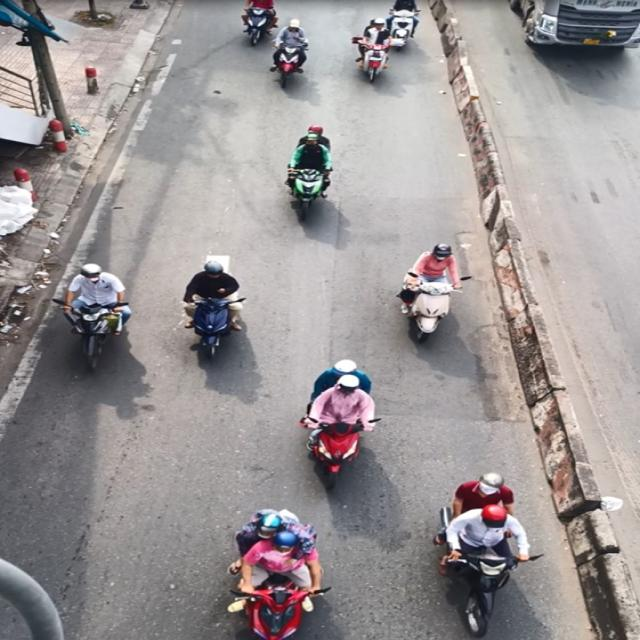motor: (202, 495, 338, 640), (434, 481, 554, 640), (294, 352, 388, 493), (167, 254, 266, 364), (53, 254, 138, 382), (385, 242, 469, 358)
